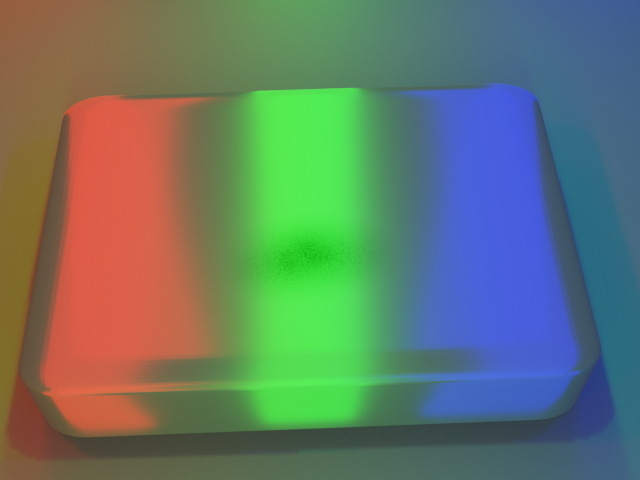stain: (183, 189, 416, 324)
